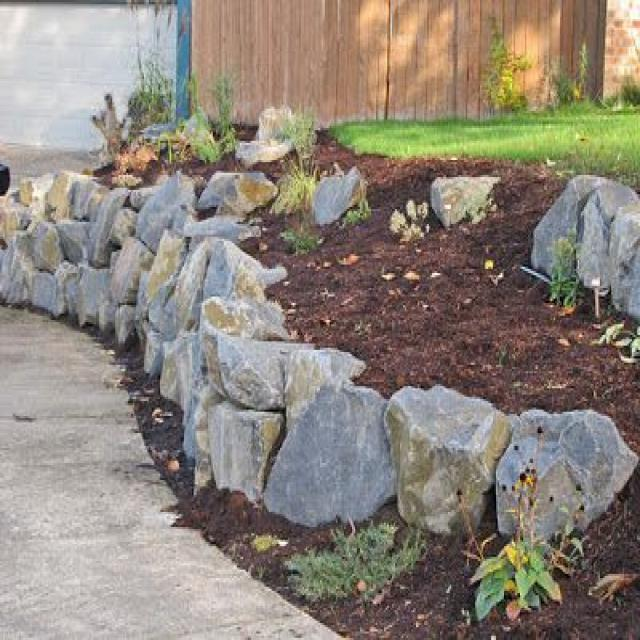Igneous: (5, 184, 282, 499), (222, 341, 636, 544)
